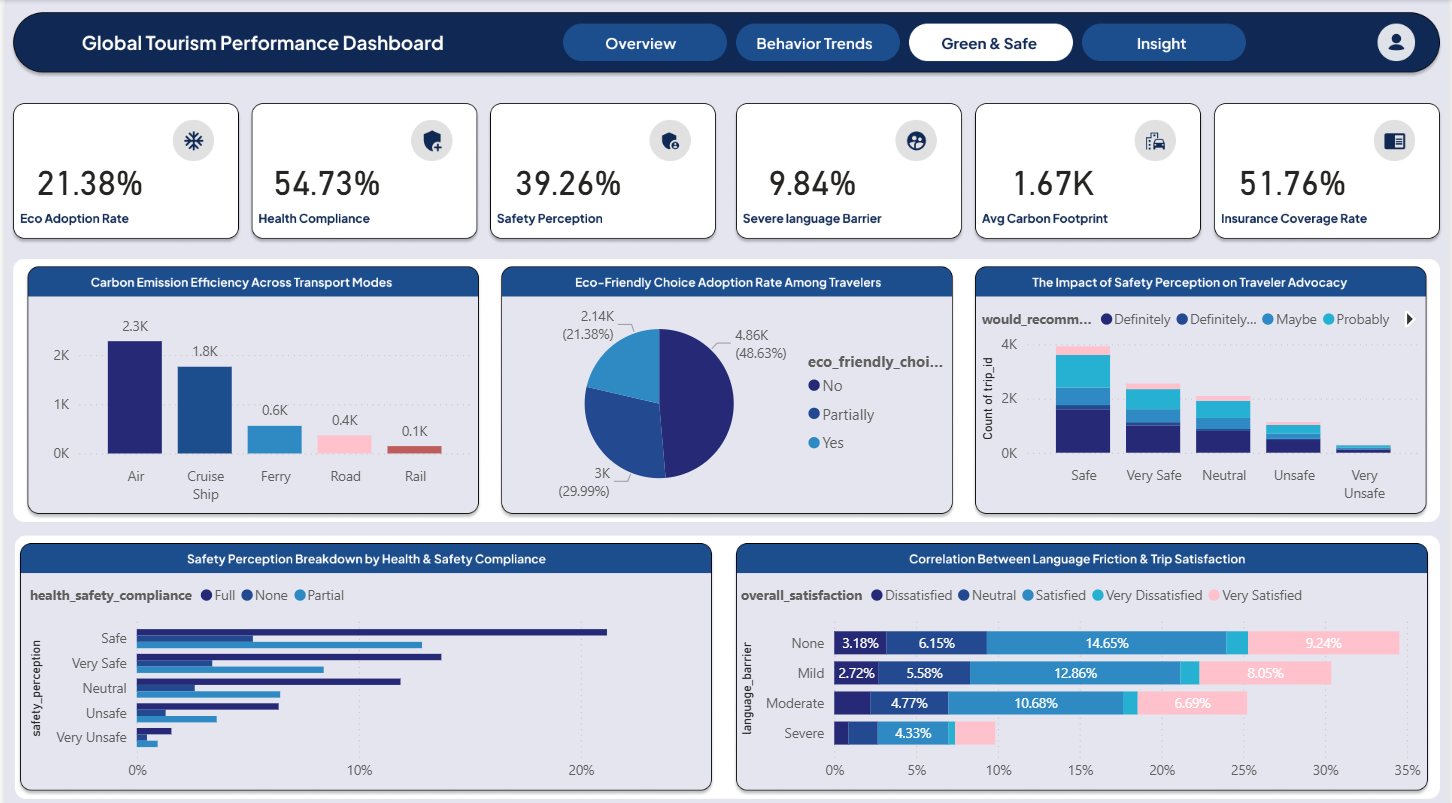

What the dashboard file says about the page in this screenshot:
{"tool":"powerbi","page":{"name":"Page 3","canvas":[1280,720],"ordinal":6},"visuals":[{"type":"card","fields":{"Values":["public tourism_cleaned_portfolio.Severe Language Barrier Rate"]},"box":[647.3,107.3,136.6,106.4],"z":0},{"type":"card","fields":{"Values":["public tourism_cleaned_portfolio.Eco Adoption Rate"]},"box":[8.9,107.3,132.1,106.4],"z":1000},{"type":"card","fields":{"Values":["public tourism_cleaned_portfolio.Health Compliance Rate"]},"box":[219.9,107.3,129.5,106.4],"z":2000},{"type":"card","fields":{"Values":["public tourism_cleaned_portfolio.Safety Perception Rate"]},"box":[430.9,107.3,136.6,106.4],"z":3000},{"type":"clusteredColumnChart","title":"Carbon Emission Efficiency Across Transport Modes","fields":{"Category":["public tourism_cleaned_portfolio.transport_mode"],"Y":["Avg(public tourism_cleaned_portfolio.carbon_footprint_kg_co2)"]},"box":[20.4,263.3,398.1,189.8],"z":4000},{"type":"pieChart","title":"Eco-Friendly Choice Adoption Rate Among Travelers","fields":{"Category":["public tourism_cleaned_portfolio.eco_friendly_choices"],"Y":["CountNonNull(public tourism_cleaned_portfolio.trip_id)"]},"box":[443.6,263.6,395.5,189.1],"z":5000},{"type":"columnChart","title":"The Impact of Safety Perception on Traveler Advocacy","fields":{"Category":["public tourism_cleaned_portfolio.safety_perception"],"Y":["CountNonNull(public tourism_cleaned_portfolio.trip_id)"],"Series":["public tourism_cleaned_portfolio.would_recommend"]},"box":[860.9,263.6,399.1,189.1],"z":6000},{"type":"clusteredBarChart","title":"Safety Perception Breakdown by Health & Safety Compliance","fields":{"Category":["public tourism_cleaned_portfolio.safety_perception"],"Y":["CountNonNull(public tourism_cleaned_portfolio.trip_id)"],"Series":["public tourism_cleaned_portfolio.health_safety_compliance"]},"box":[17.3,508.2,609.1,192.7],"z":7000},{"type":"barChart","title":"Correlation Between Language Friction and Trip Satisfaction","fields":{"Category":["public tourism_cleaned_portfolio.language_barrier"],"Y":["CountNonNull(public tourism_cleaned_portfolio.trip_id)"],"Series":["public tourism_cleaned_portfolio.overall_satisfaction"]},"box":[647.3,508.2,612.7,192.7],"z":8000},{"type":"card","fields":{"Values":["public tourism_cleaned_portfolio.Avg Carbon"]},"box":[861,107.3,135.7,106.4],"z":9000},{"type":"card","fields":{"Values":["public tourism_cleaned_portfolio.Insurance Rate"]},"box":[1072.9,107.3,135.7,106.4],"z":10000}]}

Visuals, with their boxes in screenshot pixels (x1, y1, x2, y2), scaled from the page's 1280x720 canvas onto the 1452x803 screenshot:
card - public tourism_cleaned_portfolio.Severe Language Barrier Rate: bbox=[734, 120, 889, 238]
card - public tourism_cleaned_portfolio.Eco Adoption Rate: bbox=[10, 120, 160, 238]
card - public tourism_cleaned_portfolio.Health Compliance Rate: bbox=[249, 120, 396, 238]
card - public tourism_cleaned_portfolio.Safety Perception Rate: bbox=[489, 120, 644, 238]
"Carbon Emission Efficiency Across Transport Modes" clusteredColumnChart: bbox=[23, 294, 475, 505]
"Eco-Friendly Choice Adoption Rate Among Travelers" pieChart: bbox=[503, 294, 952, 505]
"The Impact of Safety Perception on Traveler Advocacy" columnChart: bbox=[977, 294, 1429, 505]
"Safety Perception Breakdown by Health & Safety Compliance" clusteredBarChart: bbox=[20, 567, 711, 782]
"Correlation Between Language Friction and Trip Satisfaction" barChart: bbox=[734, 567, 1429, 782]
card - public tourism_cleaned_portfolio.Avg Carbon: bbox=[977, 120, 1131, 238]
card - public tourism_cleaned_portfolio.Insurance Rate: bbox=[1217, 120, 1371, 238]
